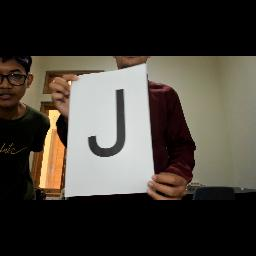j: (81, 86, 137, 168)
